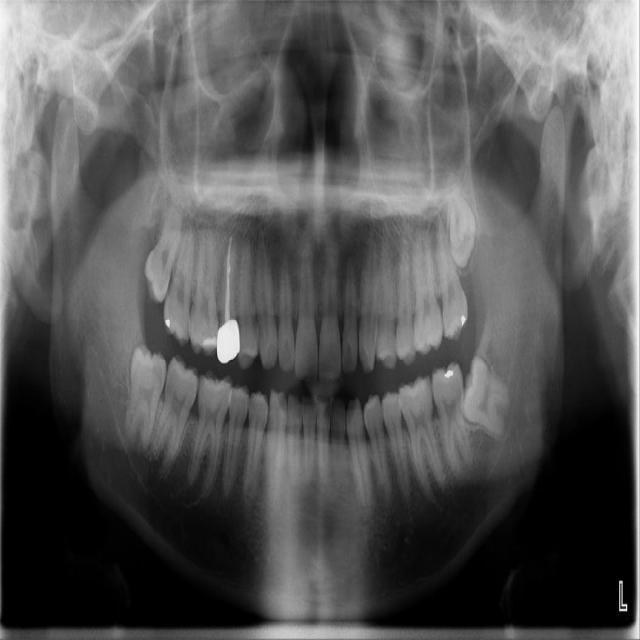3M ESPE Implant: (136, 198, 190, 306)
52: (425, 360, 471, 413), (188, 297, 221, 359), (163, 281, 191, 347), (442, 286, 468, 342), (217, 317, 241, 364)
73: (219, 223, 244, 323), (608, 593, 616, 608)
BioHorizons Implant: (430, 209, 471, 343)
BioLife Implant: (448, 183, 477, 269)
Biomet 3i Implant: (453, 354, 525, 438)
Blue Sky Bio Implant: (428, 360, 475, 477)
Caries: (162, 207, 196, 348)
Implant: (148, 353, 204, 477)
Keystone Dental Implant: (124, 342, 169, 452)
